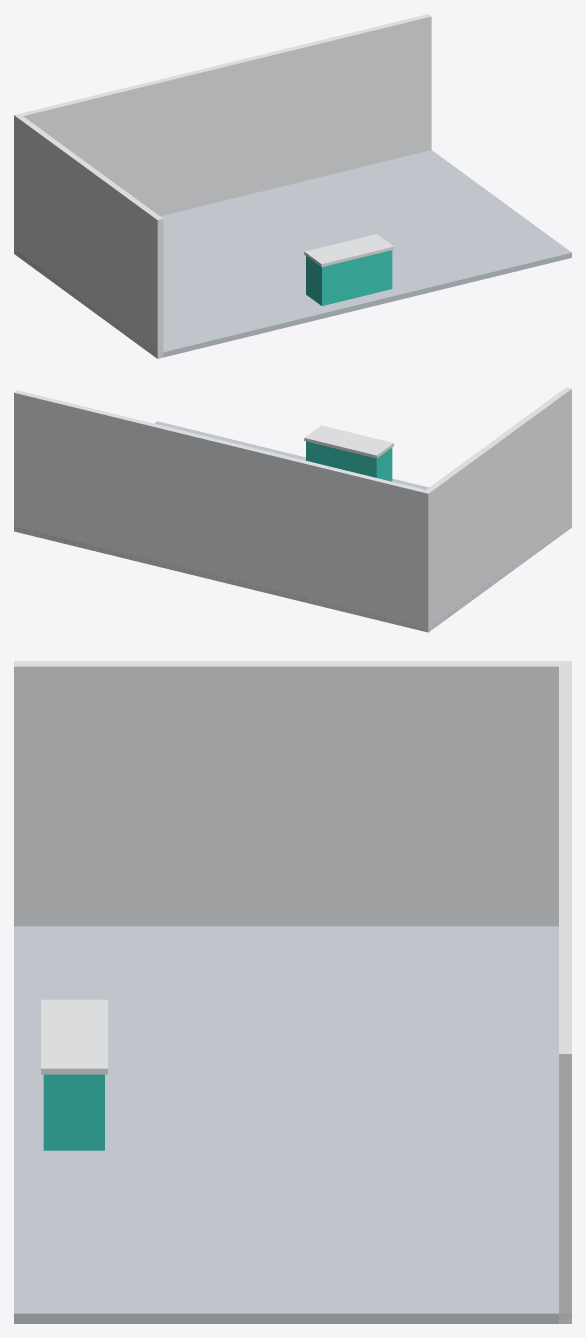
3 views of the same model, one above another, from view 1: azimuth 30°, elevation 25°; view 2: azimuth 150°, elevation 25°; view 3: azimuth 270°, elevation 25° (orthographic). The views are drawn at different scales.
Visible parts, largest first — view 1: Exhibition Booth Concept; view 2: Exhibition Booth Concept; view 3: Exhibition Booth Concept.
Boxes of the visible parts, x1,y1,x2,y2 form: Exhibition Booth Concept: (14, 14, 571, 358); Exhibition Booth Concept: (14, 387, 571, 632); Exhibition Booth Concept: (14, 661, 571, 1323).
Bounding box in the file's own units: 10 × 3.2 × 6.
